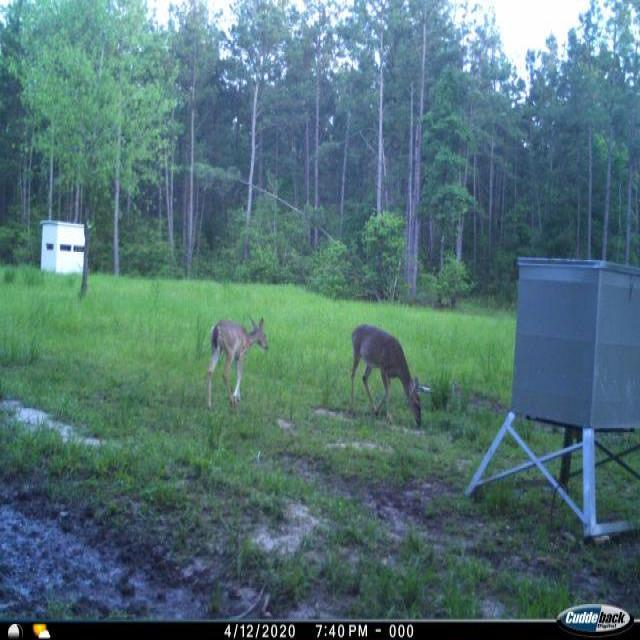deer: (346, 319, 426, 433), (198, 314, 275, 414)
